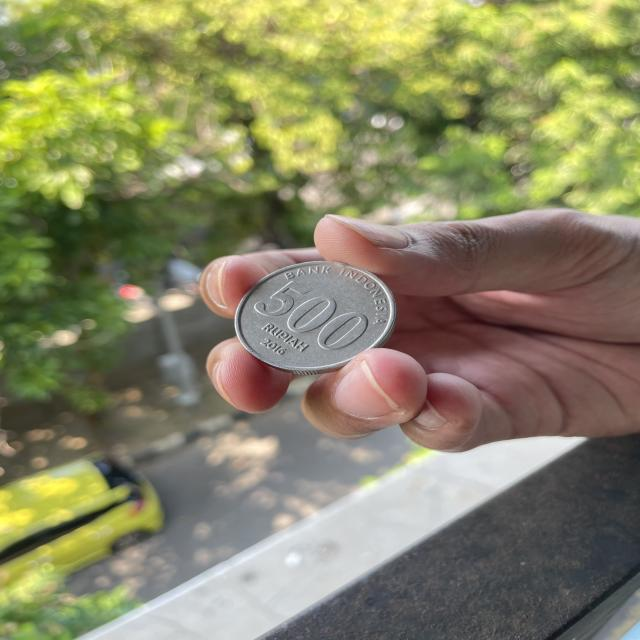500-kuning: (235, 261, 397, 375)
